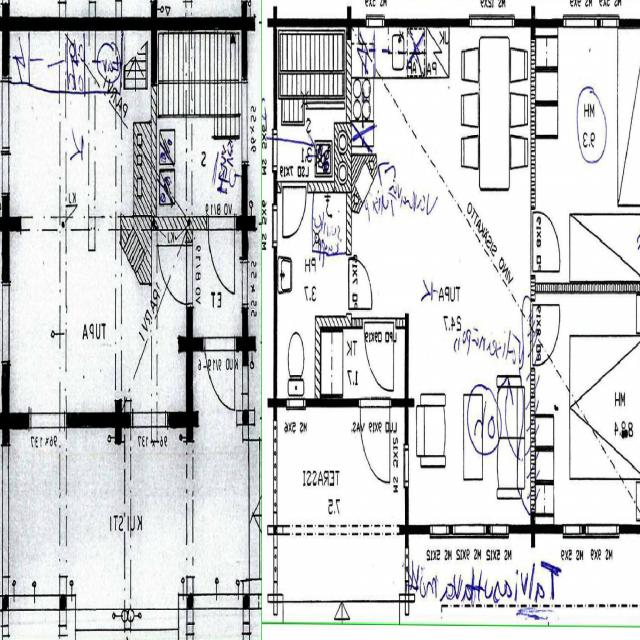door: (204, 337, 234, 418), (364, 317, 394, 395), (360, 398, 390, 474), (531, 210, 563, 272), (208, 216, 234, 289), (161, 244, 193, 303), (283, 181, 306, 245), (347, 258, 374, 310)
